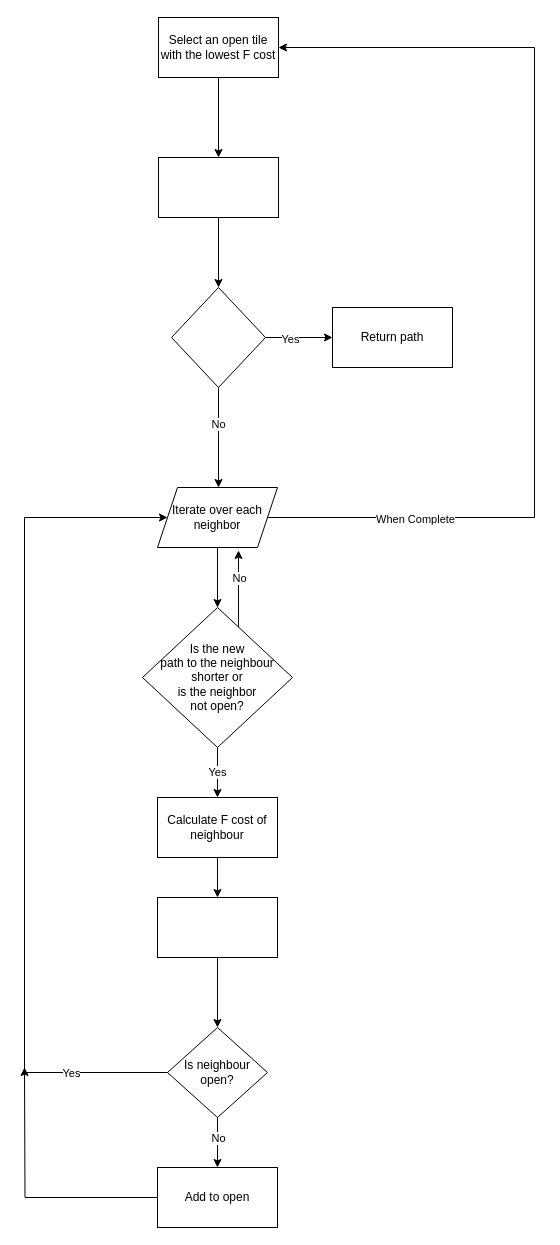
The diagram is 560 pixels wide and 1245 high, and some of its shapes have lost their labels. The shapes that lost their labels are listed below. From the top down, each one's box as (x1, y1, x2, y2) in pixels, then its label:
(158, 156, 278, 218): Set that tile to closed
(170, 286, 266, 388): Is current tile target?
(156, 896, 278, 958): Set parent of neighbor to current tile
